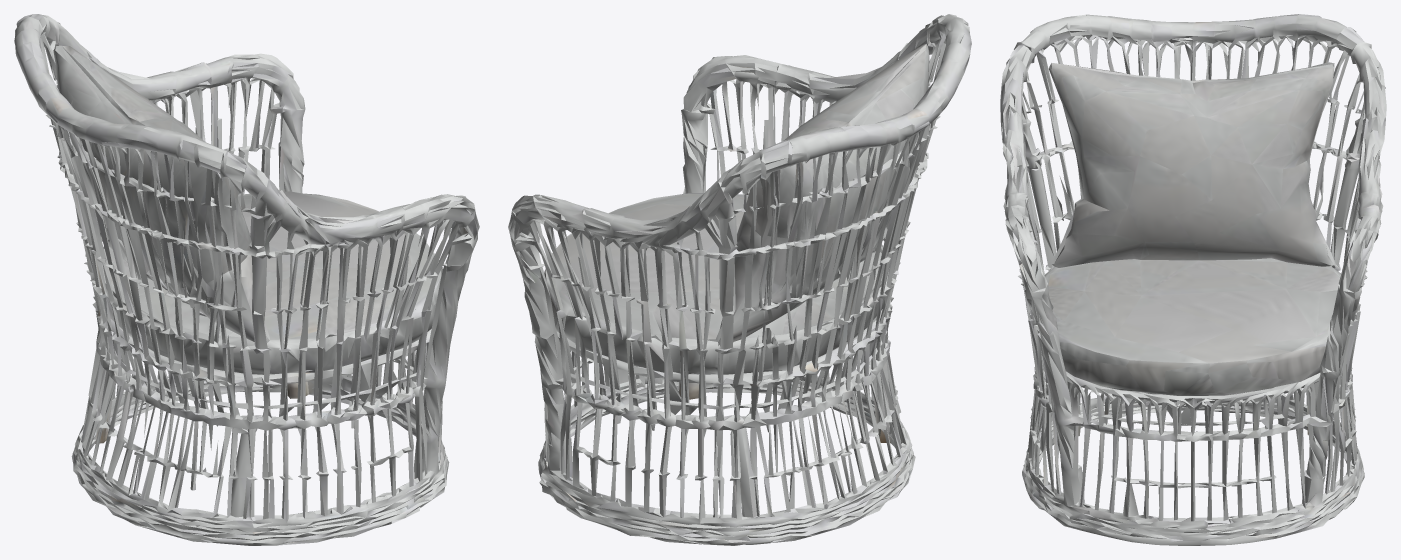
File: mj-wicker-armchair.glb
3 renders of one model, left to right at view 1: azimuth 30°, elevation 25°; view 2: azimuth 150°, elevation 25°; view 3: azimuth 270°, elevation 25°, orthographic. The views are drawn at different scales.
Parts seen in each view (by area): view 1: mj-wicker-armchair; view 2: mj-wicker-armchair; view 3: mj-wicker-armchair.
Part boxes in pixels (x1,y1,x2,y2): mj-wicker-armchair: [14, 14, 479, 545]; mj-wicker-armchair: [508, 14, 971, 545]; mj-wicker-armchair: [1000, 14, 1386, 545].
Bounding box in the file's own units: 0.8161 × 0.9183 × 0.8319.
1 material, 1 textured.
